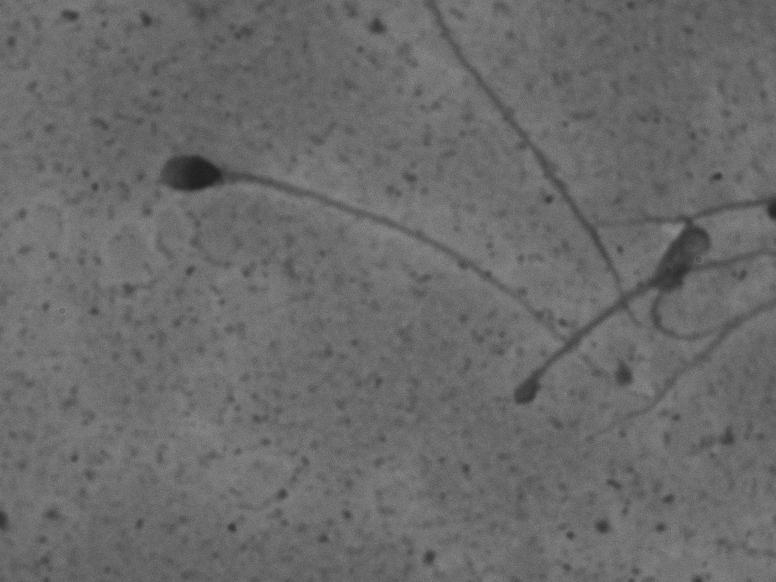Normal: (150, 142, 626, 391)
